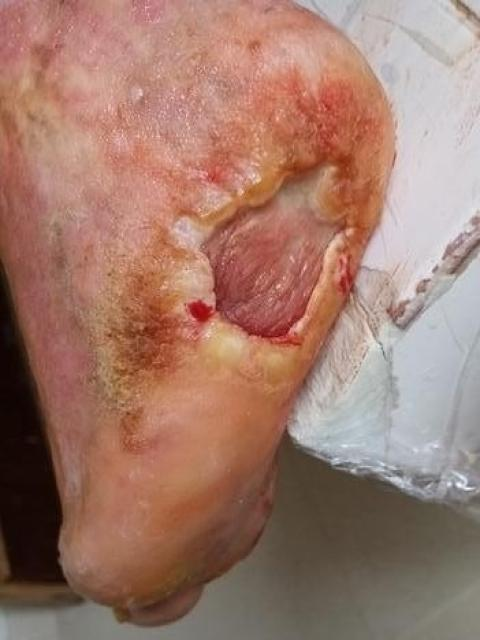wound: (171, 148, 362, 373)
